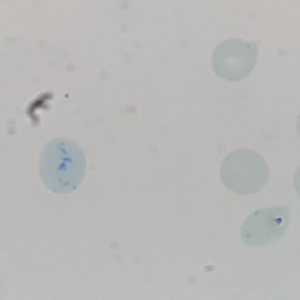aggregate reticulocyte: (38, 137, 89, 196)
erythrocyte: (218, 147, 272, 195), (238, 204, 295, 248)
punctate reticulocyte: (209, 36, 262, 83)
